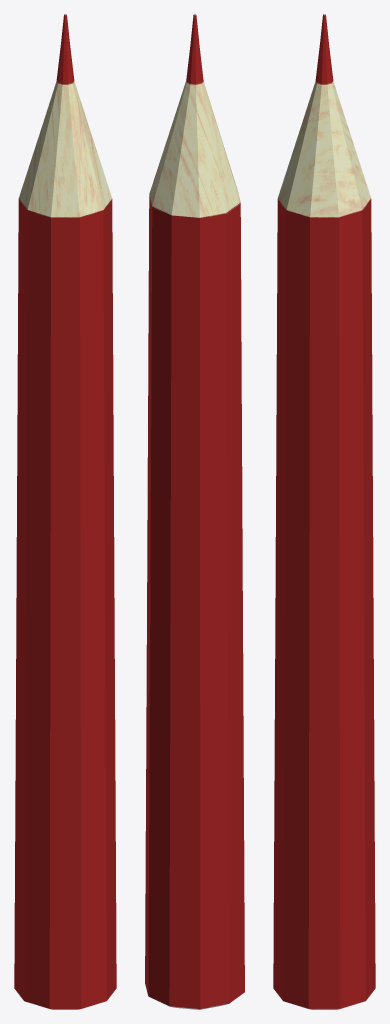
The model's file is lapis_TEXTURIZADO_VERMELHO.fbx.
The picture shows the model from 3 angles, left to right: view 1: azimuth 90°, elevation 25°; view 2: azimuth 150°, elevation 25°; view 3: azimuth 270°, elevation 25°; orthographic projection.
Parts seen in each view (by area): view 1: vermelho; view 2: vermelho; view 3: vermelho.
Part boxes in pixels (x1,y1,x2,y2): vermelho: [14, 14, 116, 1009]; vermelho: [145, 14, 244, 1009]; vermelho: [273, 14, 375, 1009].
Size of the model in its own units: 1.55 by 17.18 by 1.63.
1 material, 1 textured.
